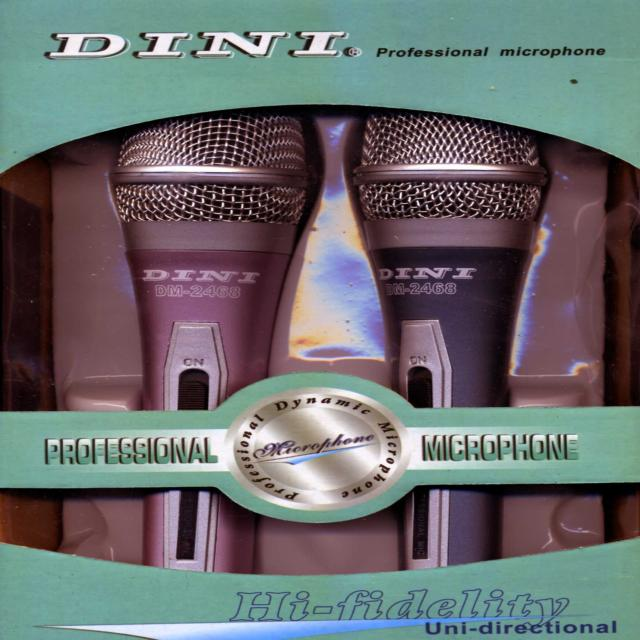microphone: (108, 121, 315, 582), (348, 117, 552, 576)
